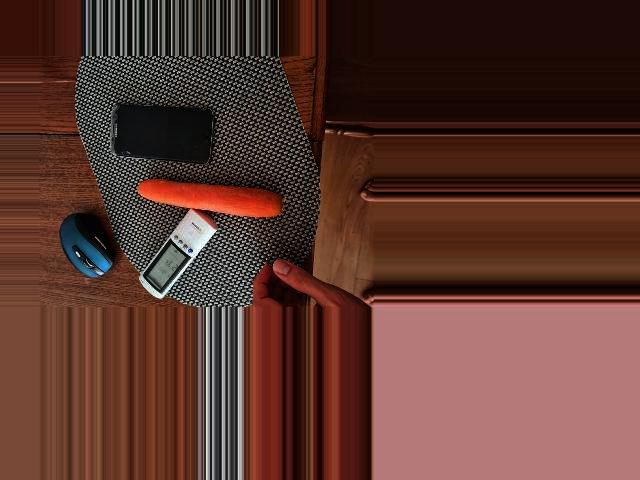carrot: (136, 176, 284, 219)
